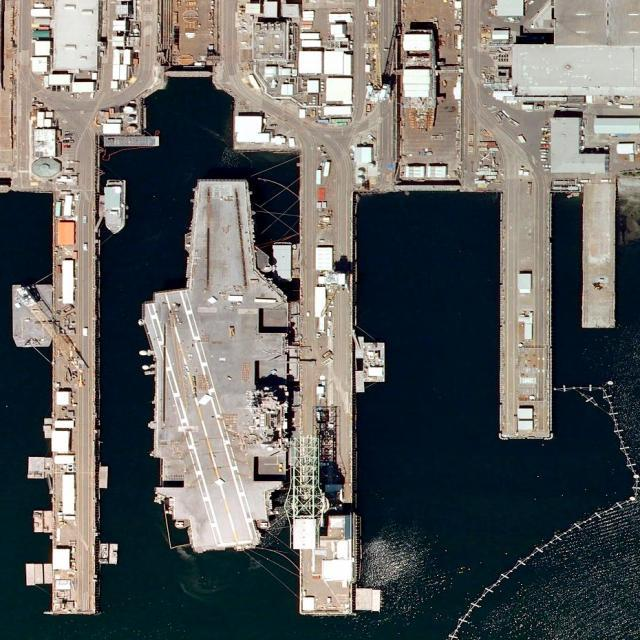Aircraft Carrier: (140, 180, 290, 552)
Dock: (299, 188, 356, 614), (51, 195, 98, 611), (498, 189, 553, 438), (583, 185, 618, 328)
Other Ship: (11, 284, 52, 348), (105, 179, 125, 236)
